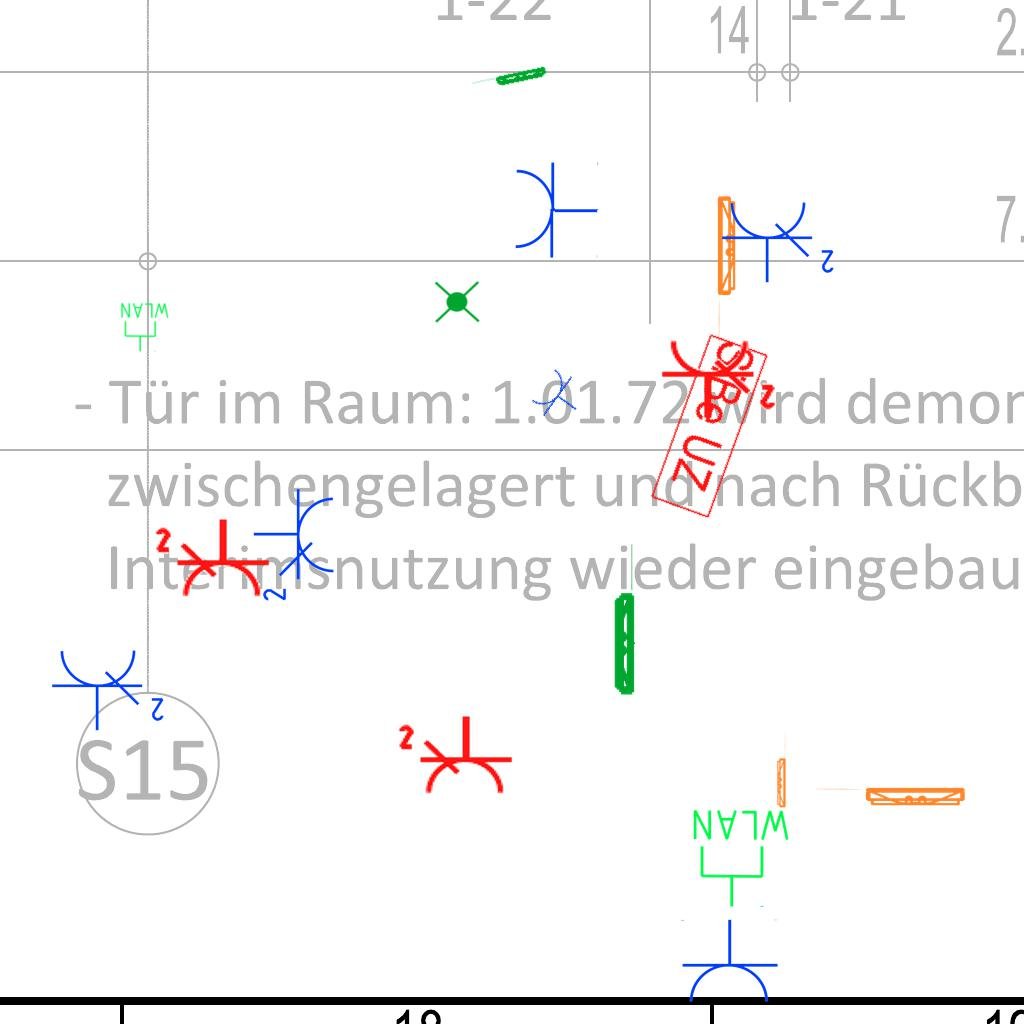Notlichtbaustein_in_Allgemeinbeleuchtug_engebaut_Einbau_(1UG_und_2UG_Aufbauvaria: (432, 277, 482, 328)
Schukosteckdose_einfach: (510, 158, 600, 261), (679, 919, 779, 1006), (526, 363, 592, 430)
Schukosteckdose_mehrfach: (396, 710, 517, 798), (50, 644, 171, 732), (252, 487, 340, 608), (153, 513, 274, 601), (720, 196, 841, 284), (657, 336, 778, 424)
Sicherheitsleuchte_Wandeinbau: (811, 785, 970, 810), (715, 191, 740, 350), (611, 539, 636, 698), (469, 65, 549, 94), (775, 731, 787, 810)
WLAN: (689, 806, 794, 910), (119, 301, 171, 353)
Zentrale_Sicherheitsbeleuchtung: (648, 331, 770, 522)
